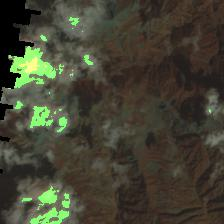landslides: (55, 168, 84, 178), (13, 56, 22, 85), (0, 65, 11, 88), (91, 198, 112, 210), (147, 124, 162, 133), (35, 156, 50, 164), (63, 160, 79, 167)
